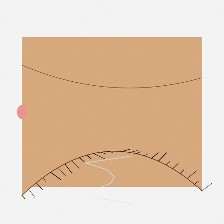foreign_body_visible: (131, 75, 179, 113)
